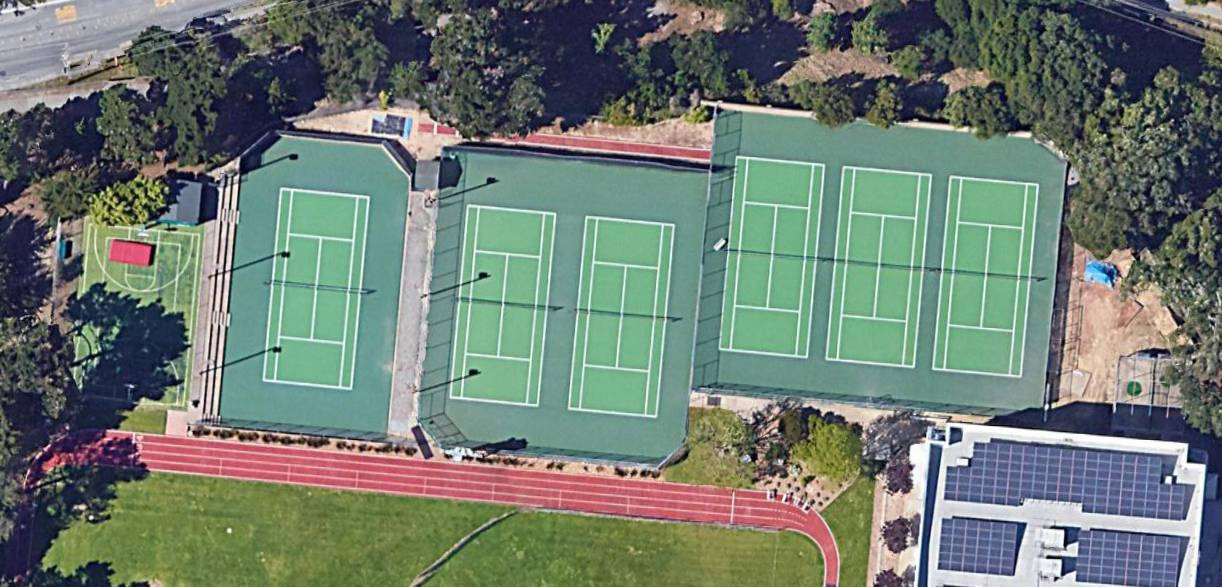basketball court: (72, 224, 204, 406)
tennis court: (567, 216, 675, 419), (262, 187, 370, 390), (717, 157, 826, 358), (450, 205, 557, 407), (932, 179, 1040, 379), (825, 167, 933, 367)
